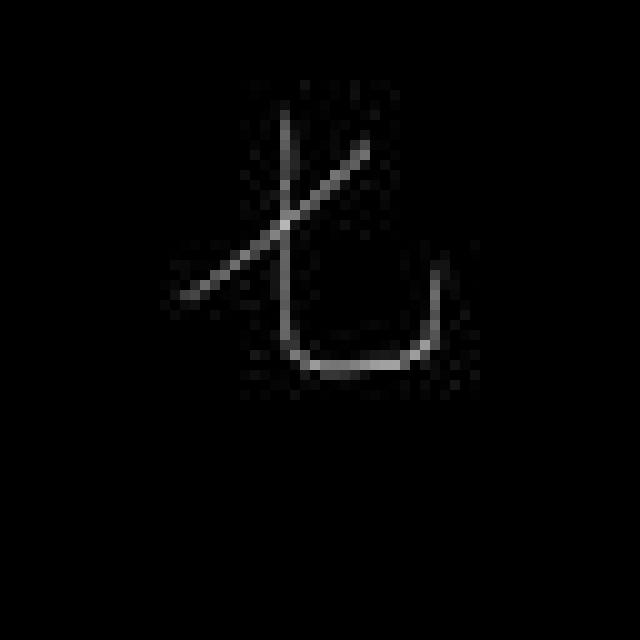7 -seven-: (169, 118, 451, 375)
